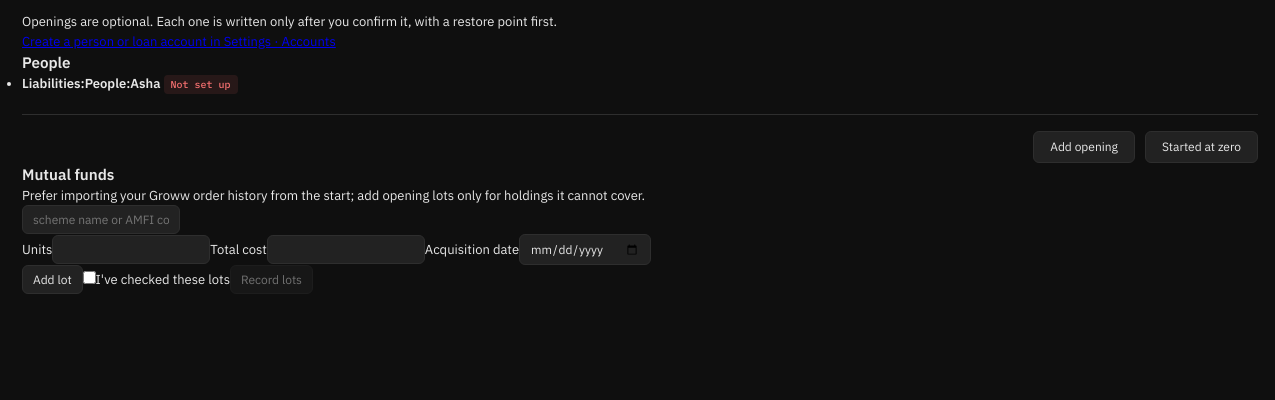
SettingsOpenings › cancelling the zero confirmation writes nothing
Expected: the text "Liabilities:People:Asha" is shown, [22, 75, 160, 92]
Click the button "Started at zero".
click(1201, 147)  # box [1145, 131, 1258, 163]
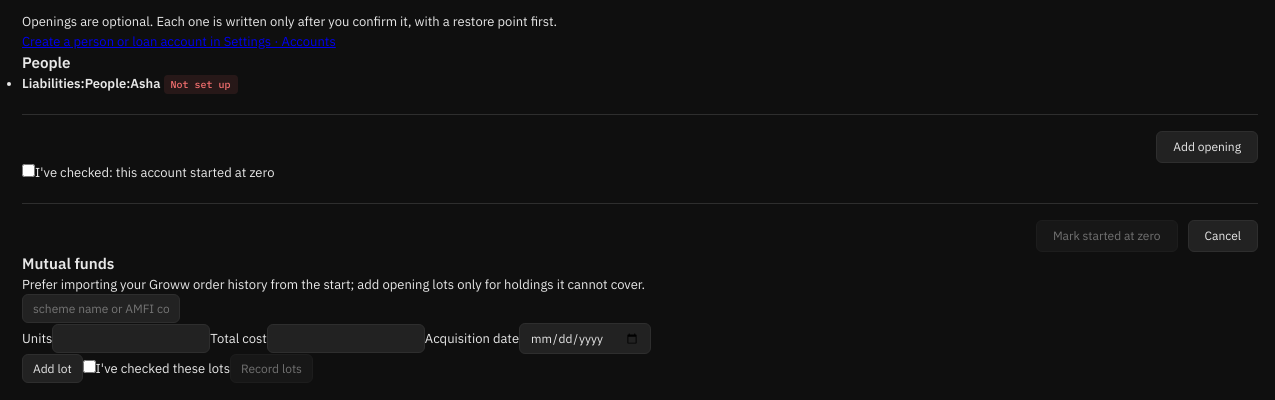
Click the checkbox labelled "I've checked: this account started at zero".
click(28, 171)  # box [22, 164, 35, 177]
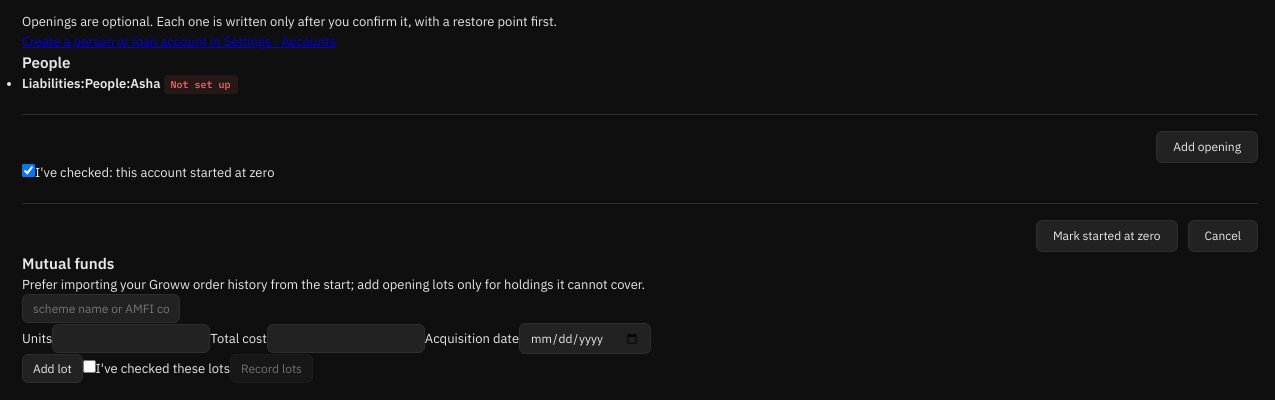
Click the button "Cancel".
click(1223, 236)  # box [1188, 220, 1258, 252]
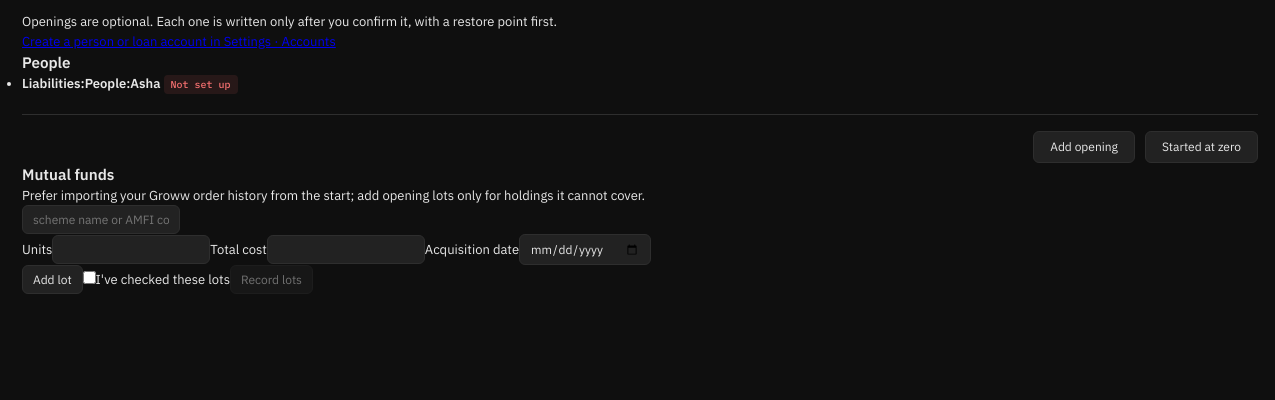
Expected: the button "Mark started at zero" is gone
